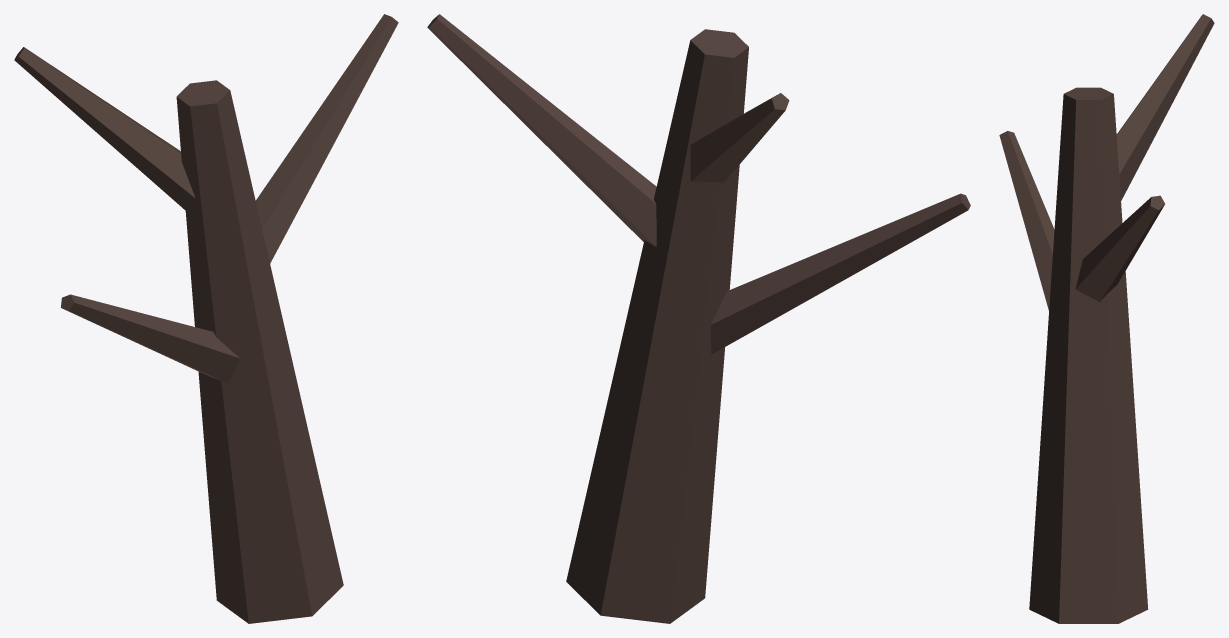
Rendered from EXTG_NorthThorn_00.glb.
3 renders of one model, left to right at view 1: azimuth 30°, elevation 25°; view 2: azimuth 150°, elevation 25°; view 3: azimuth 270°, elevation 25°, orthographic. The views are drawn at different scales.
Parts seen in each view (by area): view 1: EXTG_NorthThorn_00; view 2: EXTG_NorthThorn_00; view 3: EXTG_NorthThorn_00.
Part boxes in pixels (x1=…): EXTG_NorthThorn_00: x1=14, y1=14, x2=398, y2=623; EXTG_NorthThorn_00: x1=427, y1=14, x2=970, y2=623; EXTG_NorthThorn_00: x1=999, y1=14, x2=1214, y2=623.
Bounding box in the file's own units: 0.9713 × 1.24 × 0.4705.
